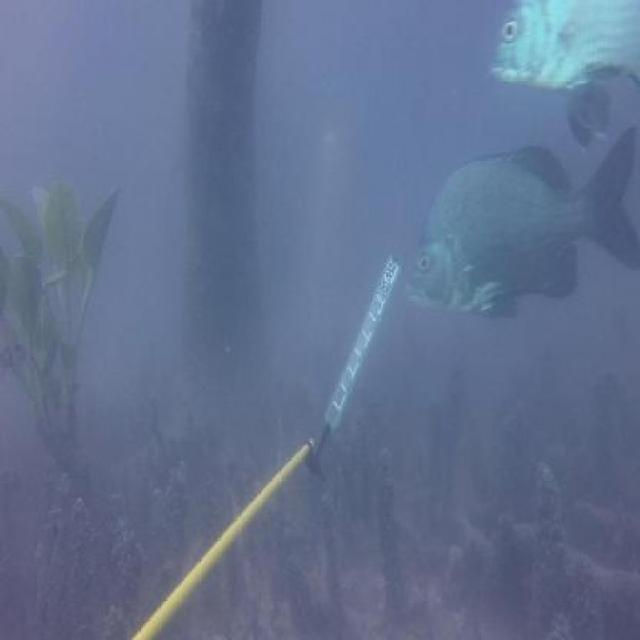acanthopagrus_palmaris: (395, 129, 640, 325), (486, 4, 640, 147)
